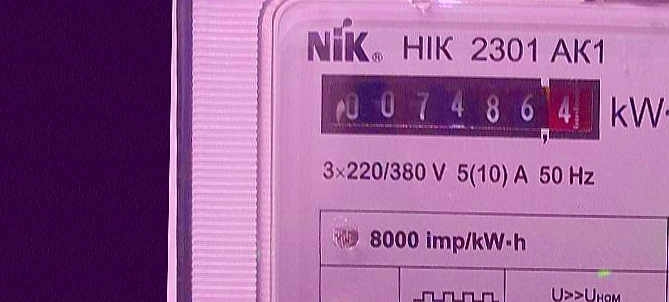0: (342, 87, 362, 121), (379, 86, 397, 119)
4: (448, 84, 466, 119), (556, 91, 573, 125)
6: (519, 90, 538, 123)
7: (411, 87, 434, 121)
8: (485, 91, 502, 126)
screen: (311, 62, 611, 151)
